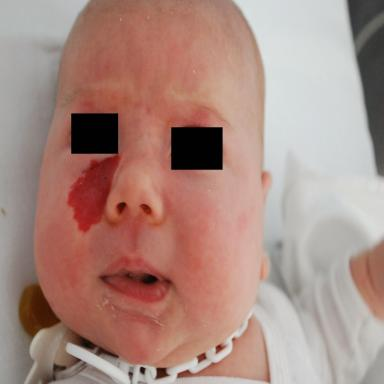Hemangiome: (67, 155, 121, 232)
